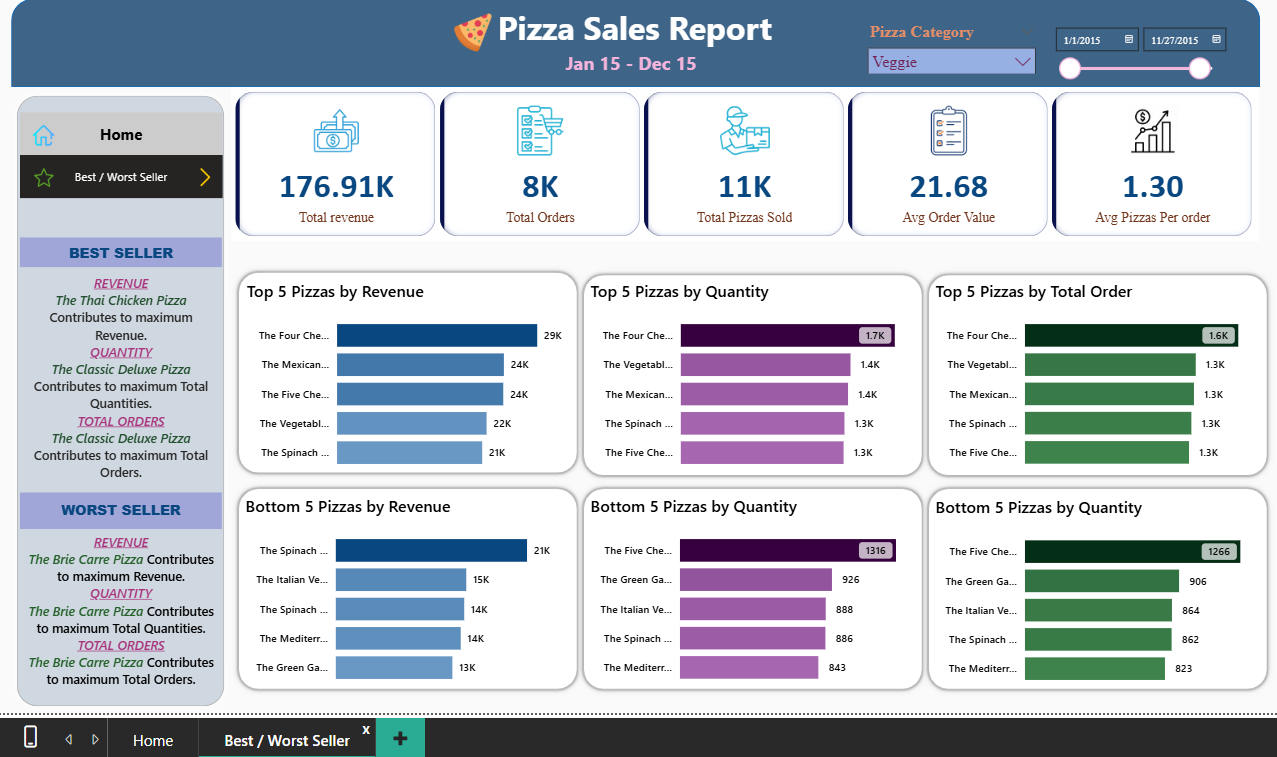

The dashboard page shown, as its layout file describes it:
{"tool":"powerbi","page":{"name":"Best / Worst Seller","canvas":[1500,840],"ordinal":1},"visuals":[{"type":"shape","box":[25,10,1450,102.5],"z":0},{"type":"cardVisual","fields":{"Data":["pizza_sales.Total revenue","pizza_sales.Total Orders","pizza_sales.Total Pizzas Sold","pizza_sales.Avg Order Value","pizza_sales.Avg Pizzas Per order"]},"box":[280,113.3,1193.3,178.3],"z":1000},{"type":"textbox","box":[576.7,13.3,345,73.3],"z":2000},{"type":"textbox","box":[663.3,65.6,185.6,46.7],"z":3000},{"type":"image","box":[528.3,21.7,65,55],"z":4000},{"type":"shape","box":[280,320,410,250],"z":5000},{"type":"shape","box":[23.3,115,256.7,725],"z":6000},{"type":"textbox","box":[34.4,583.3,234.4,42.2],"z":7000},{"type":"textbox","box":[35.6,325.6,234.4,257.8],"z":8000},{"type":"textbox","box":[34.4,625.6,234.4,195.6],"z":9000},{"type":"textbox","box":[34.4,287.8,234.4,34.4],"z":10000},{"type":"slicer","fields":{"Values":["pizza_sales.pizza_category"]},"box":[1008.6,32.9,215.7,64.3],"z":11000},{"type":"slicer","fields":{"Values":["pizza_sales.order_date"]},"box":[1224.3,32.9,215.7,80],"z":12000},{"type":"shape","box":[280,570,410,250],"z":13000},{"type":"shape","box":[1080.9,321.8,410,250],"z":14000},{"type":"shape","box":[680,570,410,250],"z":15000},{"type":"shape","box":[680,321.7,410,250],"z":16000},{"type":"shape","box":[1080.9,570.9,410,250],"z":17000},{"type":"barChart","title":"Top 5 Pizzas by Revenue","fields":{"Category":["pizza_sales.pizza_name"],"Y":["pizza_sales.Total revenue"]},"box":[293.3,336.7,386.7,233.3],"z":18000},{"type":"barChart","title":"Bottom 5 Pizzas by Revenue","fields":{"Category":["pizza_sales.pizza_name"],"Y":["pizza_sales.Total revenue"]},"box":[291.7,586.7,386.7,233.3],"z":19000},{"type":"barChart","title":"Top 5 Pizzas by Quantity","fields":{"Category":["pizza_sales.pizza_name"],"Y":["pizza_sales.Total Pizzas Sold"]},"box":[691.7,336.7,386.7,233.3],"z":20000},{"type":"barChart","title":"Bottom 5 Pizzas by Quantity","fields":{"Category":["pizza_sales.pizza_name"],"Y":["pizza_sales.Total Pizzas Sold"]},"box":[692,587,386,233],"z":21000},{"type":"barChart","title":"Top 5 Pizzas by Total Order","fields":{"Category":["pizza_sales.pizza_name"],"Y":["pizza_sales.Total Orders"]},"box":[1093,337,386,233],"z":22000},{"type":"barChart","title":"Bottom 5 Pizzas by Quantity","fields":{"Category":["pizza_sales.pizza_name"],"Y":["pizza_sales.Total Orders"]},"box":[1093,588,386,233],"z":23000},{"type":"pageNavigator","box":[34.2,142.6,235.8,50],"z":24000},{"type":"pageNavigator","box":[34.2,192.1,235.8,50],"z":25000},{"type":"image","box":[218.6,201.4,61.4,31.4],"z":26000},{"type":"image","box":[44.7,201.2,34.7,32.4],"z":27000},{"type":"image","box":[44.7,150.6,34.7,35.9],"z":28000}]}

Visuals, with their boxes on the page's 1500x840 design canvas (x1, y1, x2, y2). These are canvas units, not pixel positions in the 1277x757 screenshot, which may show the page scaled, cropped or inside an application window:
shape: bbox=(25, 10, 1475, 112)
cardVisual - pizza_sales.Total revenue x pizza_sales.Total Orders: bbox=(280, 113, 1473, 292)
textbox: bbox=(577, 13, 922, 87)
textbox: bbox=(663, 66, 849, 112)
image: bbox=(528, 22, 593, 77)
shape: bbox=(280, 320, 690, 570)
shape: bbox=(23, 115, 280, 840)
textbox: bbox=(34, 583, 269, 626)
textbox: bbox=(36, 326, 270, 583)
textbox: bbox=(34, 626, 269, 821)
textbox: bbox=(34, 288, 269, 322)
slicer - pizza_sales.pizza_category: bbox=(1009, 33, 1224, 97)
slicer - pizza_sales.order_date: bbox=(1224, 33, 1440, 113)
shape: bbox=(280, 570, 690, 820)
shape: bbox=(1081, 322, 1491, 572)
shape: bbox=(680, 570, 1090, 820)
shape: bbox=(680, 322, 1090, 572)
shape: bbox=(1081, 571, 1491, 821)
"Top 5 Pizzas by Revenue" barChart: bbox=(293, 337, 680, 570)
"Bottom 5 Pizzas by Revenue" barChart: bbox=(292, 587, 678, 820)
"Top 5 Pizzas by Quantity" barChart: bbox=(692, 337, 1078, 570)
"Bottom 5 Pizzas by Quantity" barChart: bbox=(692, 587, 1078, 820)
"Top 5 Pizzas by Total Order" barChart: bbox=(1093, 337, 1479, 570)
"Bottom 5 Pizzas by Quantity" barChart: bbox=(1093, 588, 1479, 821)
pageNavigator: bbox=(34, 143, 270, 193)
pageNavigator: bbox=(34, 192, 270, 242)
image: bbox=(219, 201, 280, 233)
image: bbox=(45, 201, 79, 234)
image: bbox=(45, 151, 79, 186)
